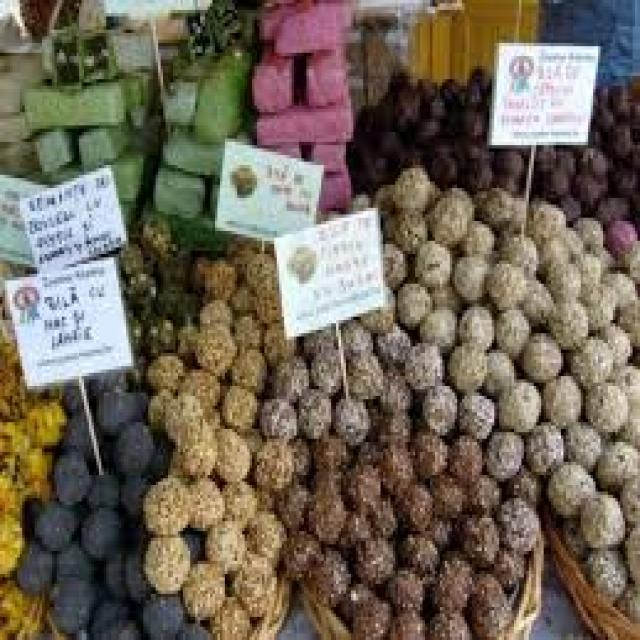organic waste: (465, 564, 509, 637), (544, 455, 593, 518), (138, 472, 188, 531), (338, 580, 388, 636), (170, 416, 215, 478), (576, 488, 622, 548), (141, 531, 188, 587), (47, 574, 96, 627), (230, 551, 274, 610), (564, 333, 610, 389), (92, 386, 144, 435), (32, 494, 79, 548), (0, 577, 42, 637), (427, 551, 472, 607), (452, 508, 497, 564), (494, 495, 539, 551), (578, 544, 625, 597), (593, 438, 638, 492), (583, 376, 625, 432), (306, 541, 348, 597), (183, 557, 222, 617), (304, 478, 341, 541), (111, 416, 148, 478), (252, 429, 292, 485), (341, 455, 383, 508), (412, 297, 454, 350), (203, 518, 242, 574), (185, 472, 222, 531), (499, 372, 539, 426), (138, 594, 186, 637), (190, 320, 232, 369), (277, 525, 319, 574), (442, 340, 484, 389), (454, 382, 492, 436), (539, 370, 578, 422), (351, 528, 390, 580), (143, 347, 188, 392), (544, 297, 588, 343), (213, 419, 247, 478), (12, 541, 52, 591), (403, 336, 440, 389), (82, 508, 121, 558), (22, 396, 64, 442), (388, 162, 430, 208), (524, 416, 561, 468), (378, 432, 410, 492), (482, 426, 521, 475), (393, 528, 437, 571), (242, 508, 279, 558), (218, 379, 255, 429), (344, 346, 381, 396), (534, 234, 571, 284), (195, 251, 235, 297), (49, 538, 96, 577), (420, 380, 455, 432), (331, 393, 368, 442), (208, 594, 250, 637), (180, 363, 222, 406), (576, 277, 610, 330), (455, 300, 494, 346), (412, 422, 444, 478), (496, 300, 528, 356), (519, 324, 558, 369), (257, 389, 292, 439), (430, 465, 465, 515), (222, 475, 255, 528), (49, 449, 86, 495), (450, 251, 487, 297), (410, 234, 447, 280), (296, 386, 328, 439), (386, 564, 425, 607), (334, 505, 368, 554), (86, 594, 128, 633), (267, 350, 309, 389), (497, 228, 536, 270), (593, 317, 628, 363), (242, 248, 277, 294), (425, 192, 460, 238), (79, 468, 119, 508), (396, 478, 428, 528), (388, 79, 420, 129), (484, 258, 522, 300), (163, 389, 200, 432), (119, 534, 143, 600), (487, 541, 521, 587), (376, 320, 410, 366), (228, 343, 264, 386), (304, 347, 338, 392), (388, 208, 427, 247), (0, 508, 22, 577), (158, 280, 195, 320), (274, 478, 306, 524), (64, 406, 99, 448), (358, 284, 393, 326), (603, 215, 637, 258), (502, 462, 536, 505), (529, 195, 563, 238), (492, 145, 526, 188), (519, 274, 548, 323), (536, 148, 571, 188), (564, 419, 596, 462), (151, 386, 183, 429), (124, 267, 156, 310), (396, 277, 428, 320), (544, 257, 578, 297), (477, 182, 509, 224), (0, 340, 20, 406), (467, 468, 497, 512), (260, 314, 289, 359), (84, 366, 119, 403), (153, 244, 188, 281), (136, 211, 168, 251), (457, 214, 489, 254), (452, 254, 484, 294), (610, 357, 638, 402), (422, 607, 464, 637), (378, 370, 410, 409), (338, 313, 371, 350), (600, 267, 632, 304), (252, 274, 279, 317), (195, 297, 230, 330), (420, 505, 452, 541), (620, 518, 638, 581), (0, 452, 20, 508), (381, 238, 405, 284), (232, 307, 262, 343), (386, 607, 422, 637), (405, 99, 435, 135), (450, 432, 479, 469), (576, 168, 605, 205), (344, 138, 368, 182), (571, 208, 600, 244), (613, 297, 637, 340), (144, 314, 176, 346), (22, 446, 44, 492), (459, 145, 486, 182), (457, 102, 484, 139), (378, 406, 408, 439), (121, 475, 148, 511), (366, 495, 393, 531), (302, 323, 334, 353), (606, 79, 630, 119), (428, 135, 452, 175), (558, 521, 586, 554), (598, 191, 628, 221), (442, 182, 470, 214), (0, 412, 22, 452), (250, 475, 272, 515), (616, 241, 638, 280), (435, 72, 460, 106), (148, 436, 168, 478), (101, 548, 121, 590), (225, 241, 257, 267), (610, 162, 638, 191), (616, 581, 638, 617), (376, 122, 398, 158), (504, 188, 521, 234), (119, 238, 143, 270), (459, 70, 482, 102), (590, 99, 612, 132), (176, 317, 196, 353), (581, 142, 605, 171), (182, 524, 202, 558), (608, 116, 625, 155), (57, 379, 79, 409), (354, 102, 376, 132), (371, 182, 393, 211), (106, 617, 136, 637), (484, 380, 514, 400), (435, 102, 455, 132), (176, 617, 205, 637), (425, 277, 450, 300), (586, 241, 608, 267), (561, 225, 578, 258), (622, 402, 638, 436), (396, 142, 422, 162), (422, 89, 442, 112), (628, 102, 638, 139), (376, 92, 388, 119), (368, 152, 383, 172), (425, 175, 435, 191)
